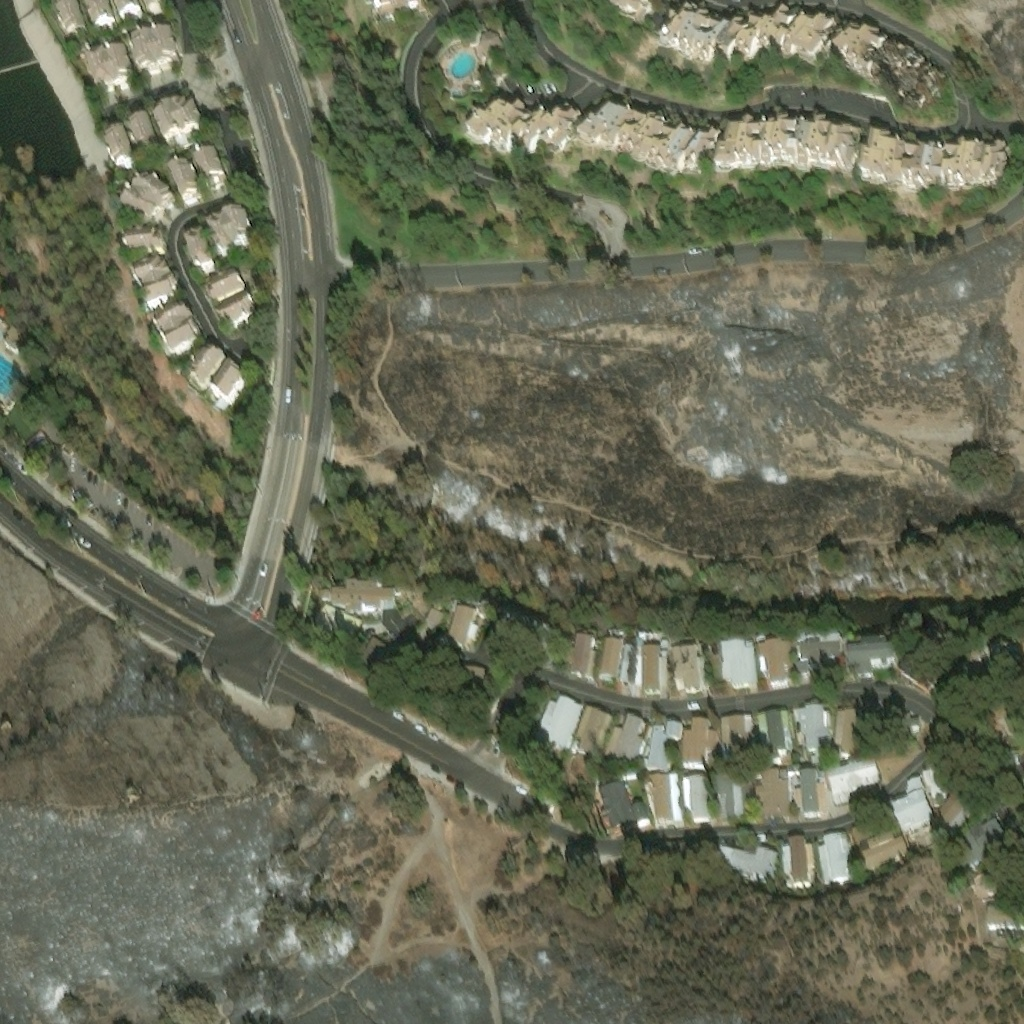0 no-damage: (575, 92, 723, 184), (827, 25, 943, 113), (862, 133, 1010, 197), (464, 97, 584, 161), (727, 7, 843, 72), (717, 122, 806, 184), (655, 0, 733, 70), (801, 121, 863, 187), (154, 303, 209, 362), (892, 777, 941, 841), (535, 696, 587, 756), (155, 99, 212, 152), (132, 260, 186, 315), (123, 178, 178, 230), (963, 818, 1012, 873), (599, 779, 650, 831), (710, 841, 779, 879), (208, 209, 259, 260), (937, 779, 986, 832), (829, 759, 883, 805), (369, 0, 431, 39), (85, 49, 137, 95), (133, 31, 183, 78), (606, 712, 648, 765), (681, 715, 721, 770), (335, 583, 401, 615), (187, 348, 229, 398), (207, 365, 249, 415), (796, 705, 832, 763), (576, 708, 616, 760), (315, 605, 363, 647), (646, 720, 684, 773), (815, 830, 854, 881), (897, 655, 940, 701), (194, 150, 234, 199), (185, 230, 223, 281), (218, 294, 263, 336), (127, 117, 166, 165), (758, 710, 794, 762), (170, 162, 208, 211), (755, 769, 792, 819), (722, 642, 759, 691), (760, 641, 798, 687), (53, 0, 92, 44), (722, 716, 757, 765), (859, 834, 908, 869), (105, 130, 142, 176), (800, 639, 845, 676), (360, 641, 399, 683), (781, 834, 814, 883), (206, 273, 248, 311), (448, 609, 482, 655), (567, 637, 599, 685), (848, 638, 897, 669), (651, 775, 682, 823), (598, 640, 626, 693), (683, 776, 714, 821), (673, 646, 702, 694), (84, 0, 120, 35), (643, 649, 669, 697), (835, 710, 861, 758), (605, 0, 653, 23), (799, 769, 820, 817), (464, 669, 496, 700), (920, 772, 954, 800), (128, 235, 167, 259), (114, 0, 146, 25), (144, 0, 179, 20), (5, 327, 28, 354), (427, 611, 447, 630), (0, 307, 11, 321)
